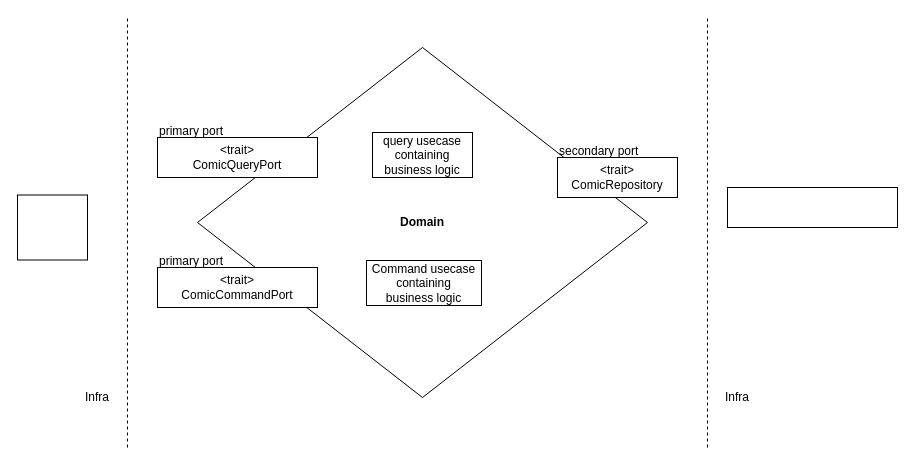
The diagram is 915 pixels wide and 466 high, and some of its shapes have lost their labels. The shapes that lost their labels are listed below. From the top down, each one's centre as x and y in pixels, then its label:
At (52,227): "Actix web server".
At (812,207): "InMemoryComicRepository".
